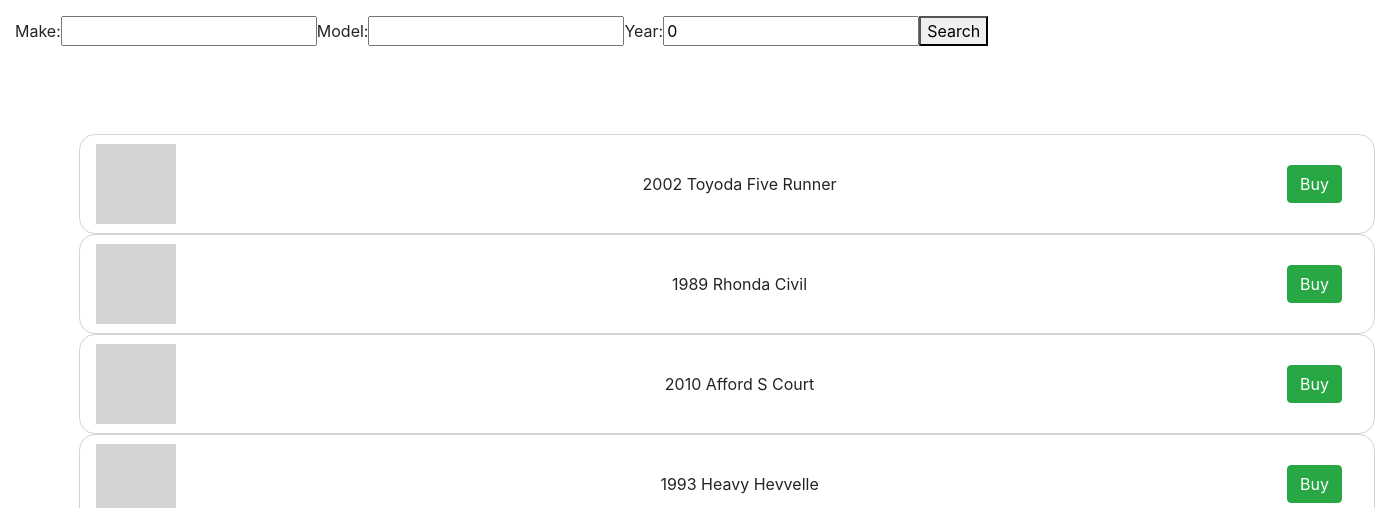
it: Search › should limit list to model searched for
Type "runner" into the field with test id "model-search" at (496,31), box [368, 16, 624, 46]
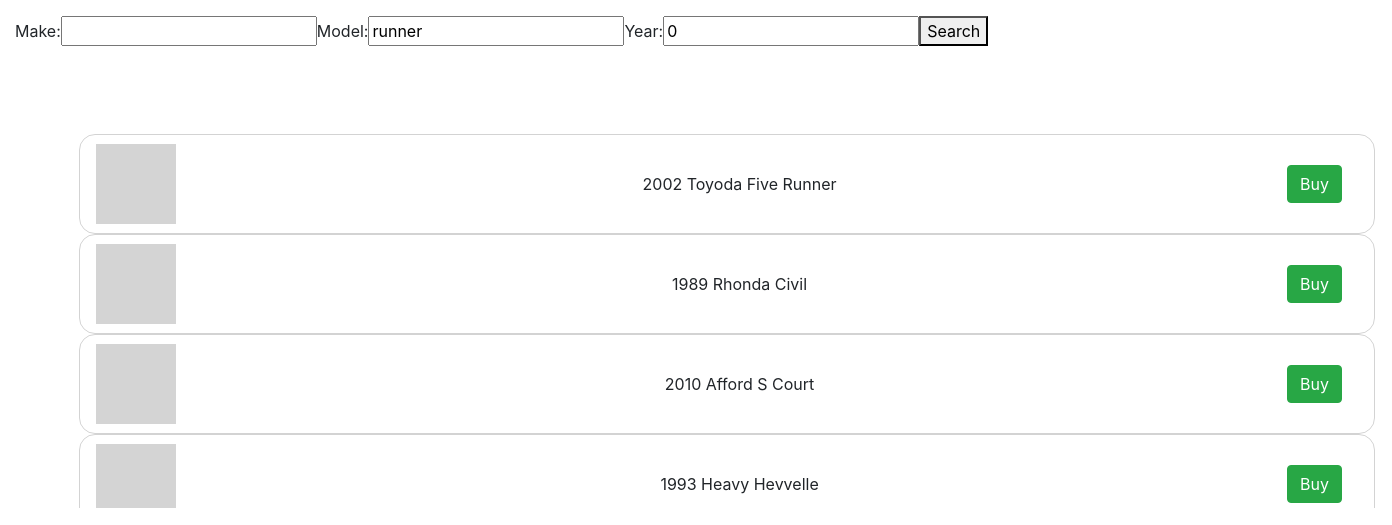
Click the button "Search" at (954,31), box [919, 16, 988, 46]
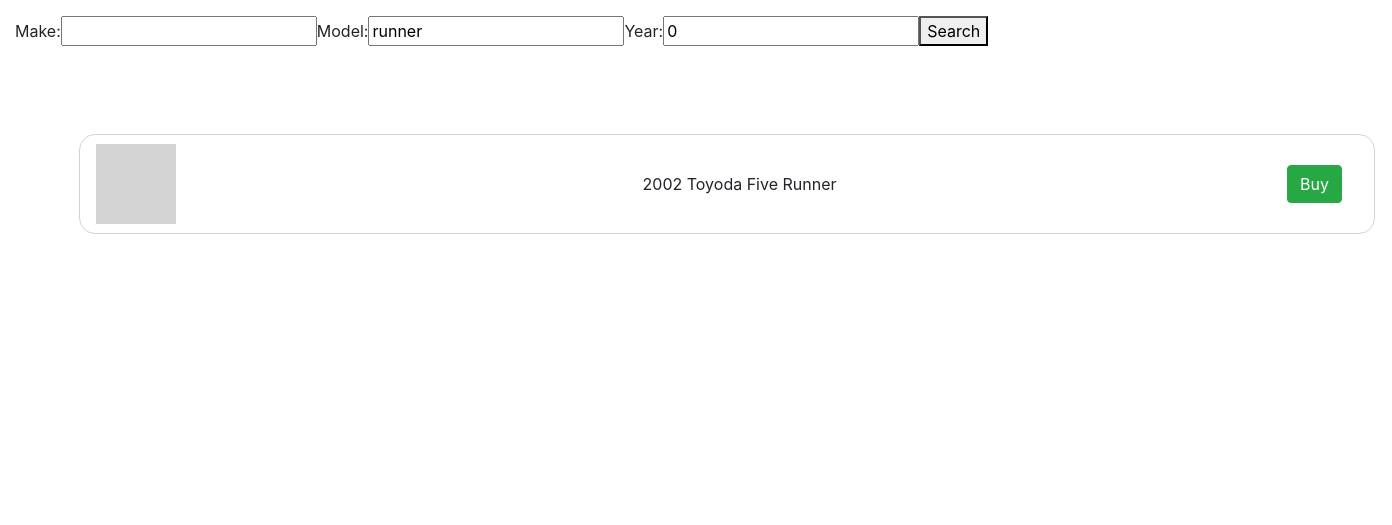
Result: the number of elements with test id "list-item" is 1 at [79, 134, 1375, 234]
